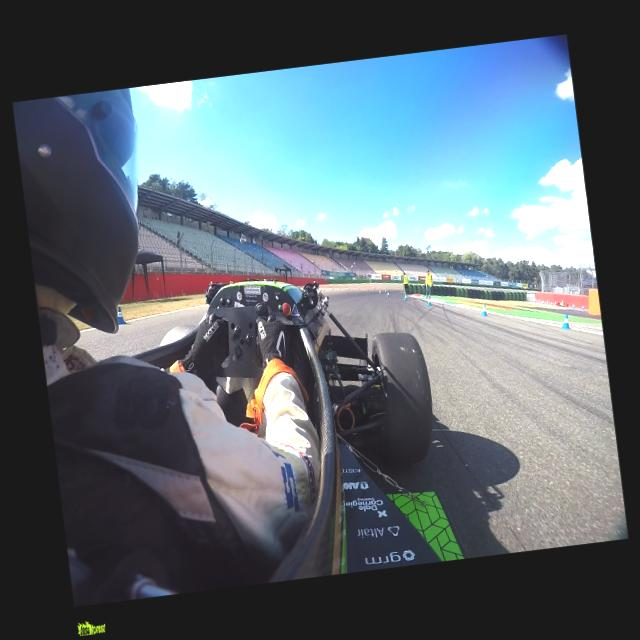blue_cone: (116, 306, 125, 323), (560, 314, 570, 328), (480, 304, 488, 316), (426, 297, 431, 306), (403, 293, 407, 301), (378, 288, 382, 294), (386, 291, 389, 296)
